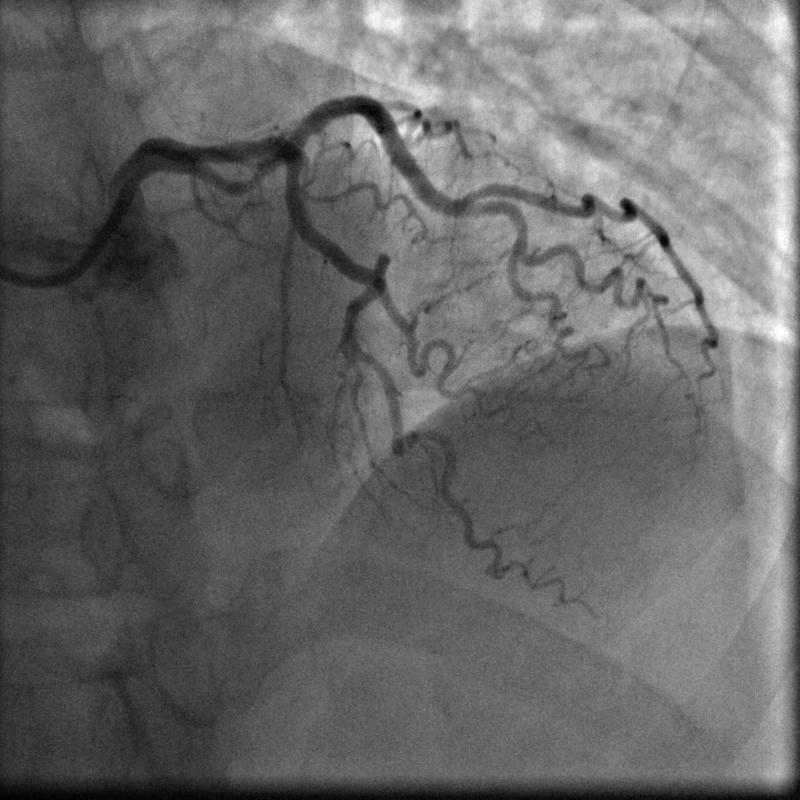Stenosis: (230, 160, 269, 193)
